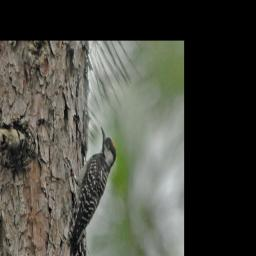Woodpecker: (67, 121, 117, 256)
